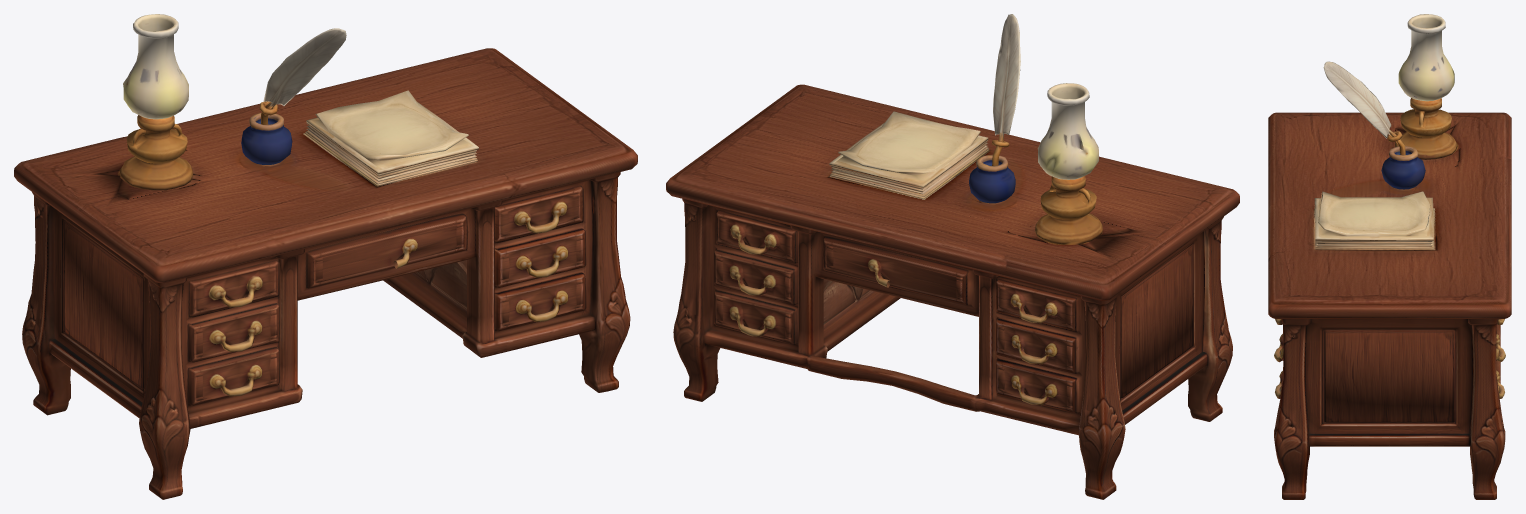
Rendered from writing_desk.glb.
The picture shows the model from 3 angles, left to right: view 1: azimuth 30°, elevation 25°; view 2: azimuth 150°, elevation 25°; view 3: azimuth 270°, elevation 25°; orthographic projection. The views are drawn at different scales.
Visible parts, largest first — view 1: tripo_node_3a8be3e7-9f29-438d-9dea-1db6de3af9ee; view 2: tripo_node_3a8be3e7-9f29-438d-9dea-1db6de3af9ee; view 3: tripo_node_3a8be3e7-9f29-438d-9dea-1db6de3af9ee.
Part boxes in pixels (x1,y1,x2,y2): tripo_node_3a8be3e7-9f29-438d-9dea-1db6de3af9ee: (14,14,637,499); tripo_node_3a8be3e7-9f29-438d-9dea-1db6de3af9ee: (666,14,1239,499); tripo_node_3a8be3e7-9f29-438d-9dea-1db6de3af9ee: (1268,14,1511,499).
Size of the model in its own units: 0.979 by 0.7835 by 0.5154.
1 material, 1 textured.
